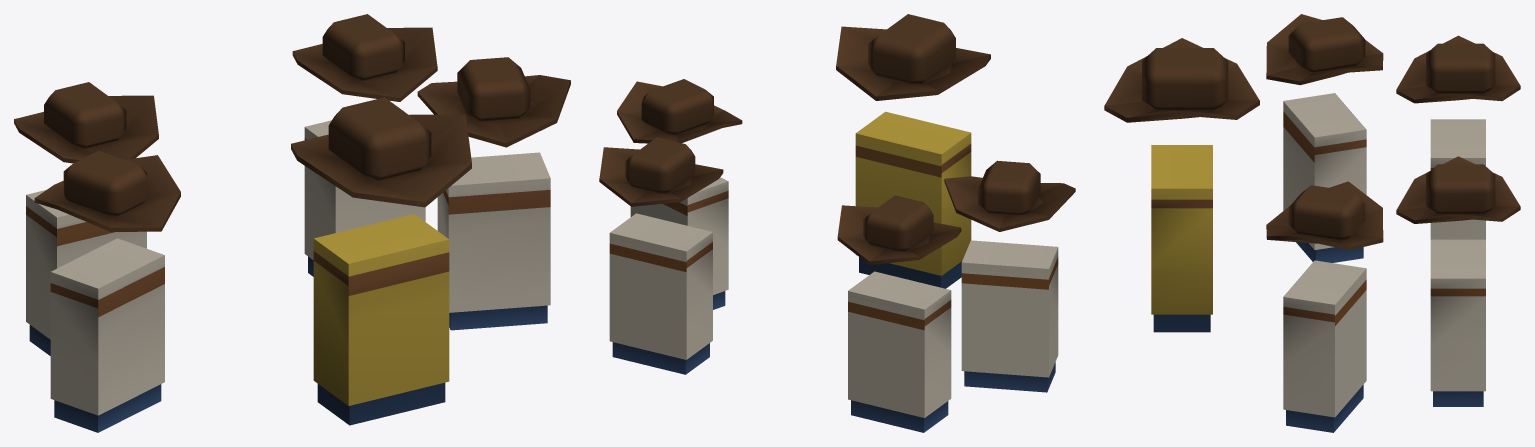
The model's file is suds-posse-lod2.glb.
3 renders of one model, left to right at view 1: azimuth 30°, elevation 25°; view 2: azimuth 150°, elevation 25°; view 3: azimuth 270°, elevation 25°, orthographic. The views are drawn at different scales.
Parts seen in each view (by area): view 1: cap_torso, att3_torso, att2_torso, cap_hat, att0_hat, att2_hat, att3_hat, att1_hat, att1_torso, att0_torso; view 2: att0_torso, att1_torso, att3_torso, cap_torso, cap_hat, att3_hat, att0_hat, att1_hat, att2_hat, att2_torso; view 3: att2_torso, cap_torso, att0_torso, cap_hat, att3_torso, att3_hat, att1_hat, att0_hat, att2_hat, att1_torso.
Part boxes in pixels (left/top/right/bottom): cap_torso: left=313, top=214, right=449, bottom=425; att3_torso: left=50, top=238, right=164, bottom=432; att2_torso: left=437, top=152, right=550, bottom=330; cap_hat: left=291, top=97, right=471, bottom=207; att0_hat: left=292, top=14, right=437, bottom=101; att2_hat: left=417, top=57, right=570, bottom=147; att3_hat: left=34, top=151, right=180, bottom=231; att1_hat: left=14, top=82, right=158, bottom=163; att1_torso: left=26, top=190, right=146, bottom=355; att0_torso: left=304, top=120, right=425, bottom=276; att0_torso: left=609, top=213, right=712, bottom=374; att1_torso: left=848, top=271, right=951, bottom=432; att3_torso: left=961, top=240, right=1058, bottom=392; cap_torso: left=855, top=111, right=971, bottom=288; cap_hat: left=836, top=14, right=990, bottom=100; att3_hat: left=944, top=160, right=1075, bottom=231; att0_hat: left=599, top=137, right=723, bottom=206; att1_hat: left=837, top=195, right=961, bottom=264; att2_hat: left=617, top=79, right=742, bottom=143; att2_torso: left=630, top=177, right=728, bottom=309; att2_torso: left=1283, top=260, right=1366, bottom=432; cap_torso: left=1151, top=145, right=1212, bottom=332; att0_torso: left=1430, top=239, right=1485, bottom=406; cap_hat: left=1104, top=38, right=1259, bottom=122; att3_torso: left=1283, top=93, right=1366, bottom=262; att3_hat: left=1266, top=14, right=1383, bottom=85; att1_hat: left=1396, top=35, right=1520, bottom=103; att0_hat: left=1396, top=156, right=1520, bottom=223; att2_hat: left=1266, top=181, right=1383, bottom=250; att1_torso: left=1430, top=119, right=1485, bottom=239.
Size of the model in its own units: 2.28 by 1.3 by 1.81.
